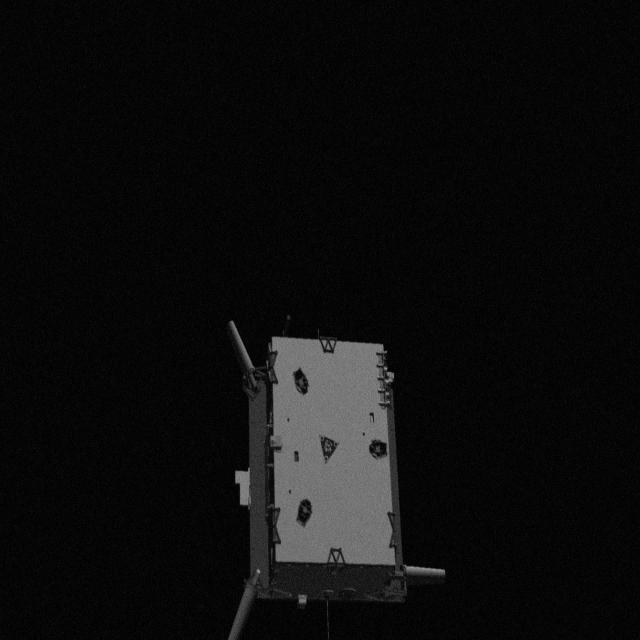satellite: (212, 316, 452, 640)
